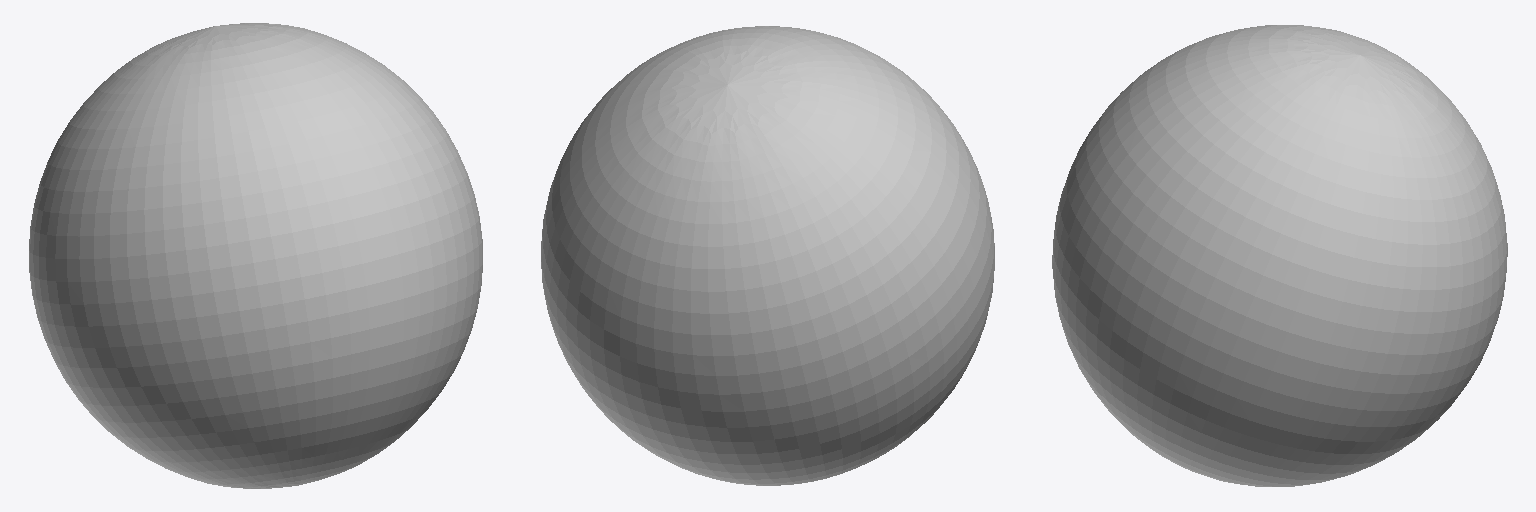
Rendered from ball4.obj.
3 views of the same model, side by side, from view 1: azimuth 30°, elevation 25°; view 2: azimuth 150°, elevation 25°; view 3: azimuth 270°, elevation 25° (orthographic).
Parts seen in each view (by area): view 1: Sphere01; view 2: Sphere01; view 3: Sphere01.
Part boxes in pixels (left/top/right/bottom): Sphere01: left=29, top=23, right=482, bottom=488; Sphere01: left=541, top=26, right=994, bottom=485; Sphere01: left=1052, top=25, right=1507, bottom=486.
Size of the model in its own units: 5.45 by 5.58 by 5.46.